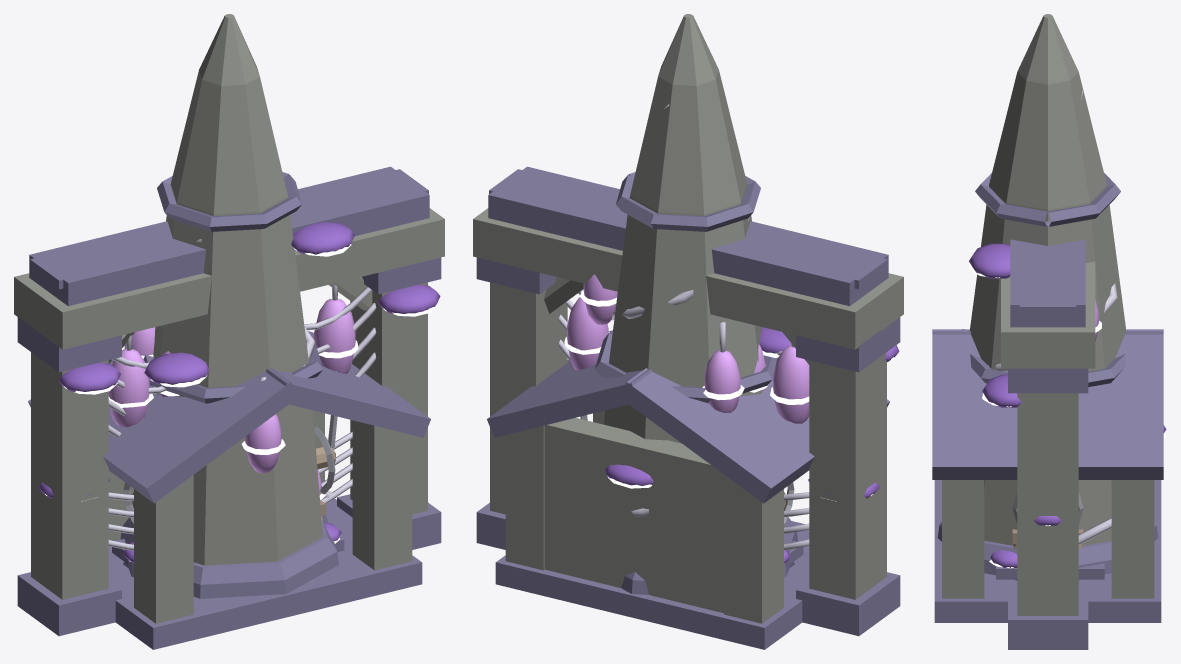
The model's file is FungalF10Kit.fbx.
3 views of the same model, side by side, from view 1: azimuth 30°, elevation 25°; view 2: azimuth 150°, elevation 25°; view 3: azimuth 270°, elevation 25° (orthographic). The views are drawn at different scales.
Visible parts, largest first — view 1: SilkSpire__STONE, WebbedArchway__STONE, LastLampShrine__TRIM, WebbedArchway__TRIM, LastLampShrine__STONE, SilkSpire__TRIM, WebbedArchway__BULB, SilkSpire__CAP, WebbedArchway__CAP, WebbedArchway__STEM, SilkSpire__BULB, SilkWebCurtain__STEM (+3 smaller); view 2: WebbedArchway__STONE, LastLampShrine__STONE, SilkSpire__STONE, LastLampShrine__TRIM, WebbedArchway__TRIM, SilkSpire__TRIM, WebbedArchway__BULB, SilkSpire__BULB, SilkSpire__CAP, SilkSpire__STEM, SilkSpire__GLOW, SilkWebCurtain__STEM; view 3: LastLampShrine__TRIM, SilkSpire__STONE, WebbedArchway__STONE, WebbedArchway__TRIM, LastLampShrine__STONE, SilkSpire__TRIM, SilkSpire__CAP, WebbedArchway__CAP, SilkWindlass__TRIM, SilkSpire__STEM, BroodEggClutch__CAP.
Boxes of the visible parts, x1,y1,x2,y2 form: SilkSpire__STONE: [153, 14, 322, 565]; WebbedArchway__STONE: [14, 208, 444, 599]; LastLampShrine__TRIM: [28, 331, 430, 649]; WebbedArchway__TRIM: [17, 166, 441, 636]; LastLampShrine__STONE: [108, 410, 412, 623]; SilkSpire__TRIM: [120, 172, 338, 598]; WebbedArchway__BULB: [108, 298, 355, 427]; SilkSpire__CAP: [144, 222, 354, 384]; WebbedArchway__CAP: [58, 284, 440, 391]; WebbedArchway__STEM: [108, 284, 376, 436]; SilkSpire__BULB: [124, 327, 281, 473]; SilkWebCurtain__STEM: [108, 431, 352, 550]; WebbedArchway__STONE: [473, 208, 903, 599]; LastLampShrine__STONE: [505, 410, 783, 623]; SilkSpire__STONE: [604, 14, 764, 443]; LastLampShrine__TRIM: [487, 330, 889, 649]; WebbedArchway__TRIM: [476, 166, 900, 636]; SilkSpire__TRIM: [595, 172, 797, 594]; WebbedArchway__BULB: [567, 297, 809, 423]; SilkSpire__BULB: [583, 274, 740, 412]; SilkSpire__CAP: [605, 327, 790, 485]; SilkSpire__STEM: [611, 104, 749, 516]; SilkSpire__GLOW: [579, 290, 779, 488]; SilkWebCurtain__STEM: [784, 492, 809, 550]; LastLampShrine__TRIM: [932, 329, 1163, 622]; SilkSpire__STONE: [969, 14, 1126, 545]; WebbedArchway__STONE: [1001, 261, 1095, 615]; WebbedArchway__TRIM: [1008, 239, 1088, 649]; LastLampShrine__STONE: [942, 480, 1154, 598]; SilkSpire__TRIM: [937, 173, 1158, 575]; SilkSpire__CAP: [969, 243, 1166, 433]; WebbedArchway__CAP: [982, 374, 1022, 407]; SilkWindlass__TRIM: [996, 563, 1104, 579]; SilkSpire__STEM: [962, 90, 1117, 544]; BroodEggClutch__CAP: [990, 550, 1017, 567].
Bounding box in the file's own units: 18.2 × 25.4 × 9.92.
